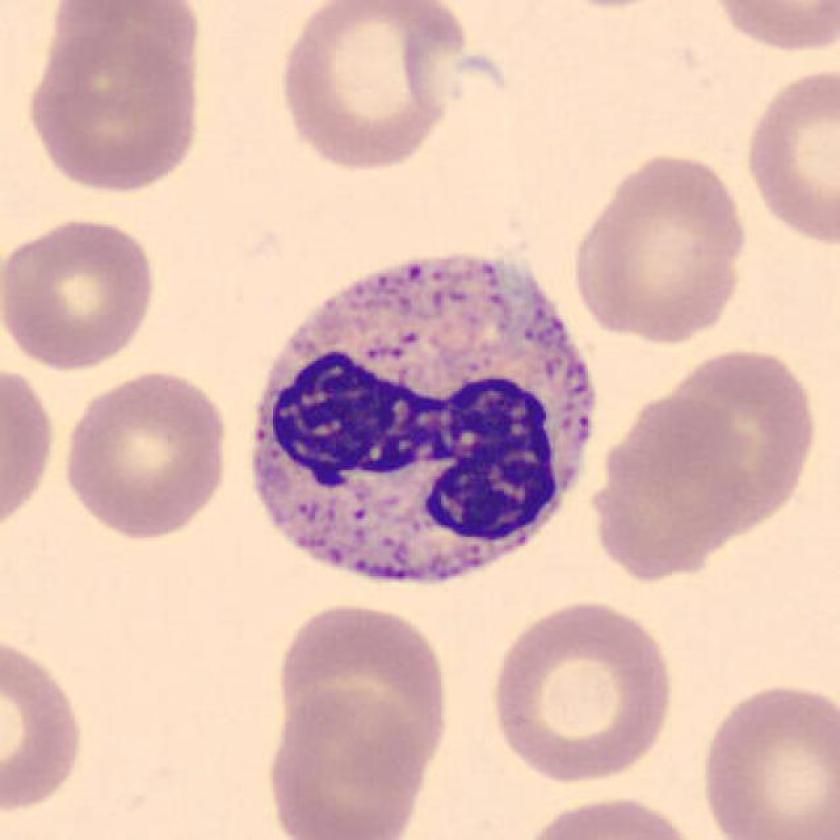neutrophil: (256, 257, 593, 581)
